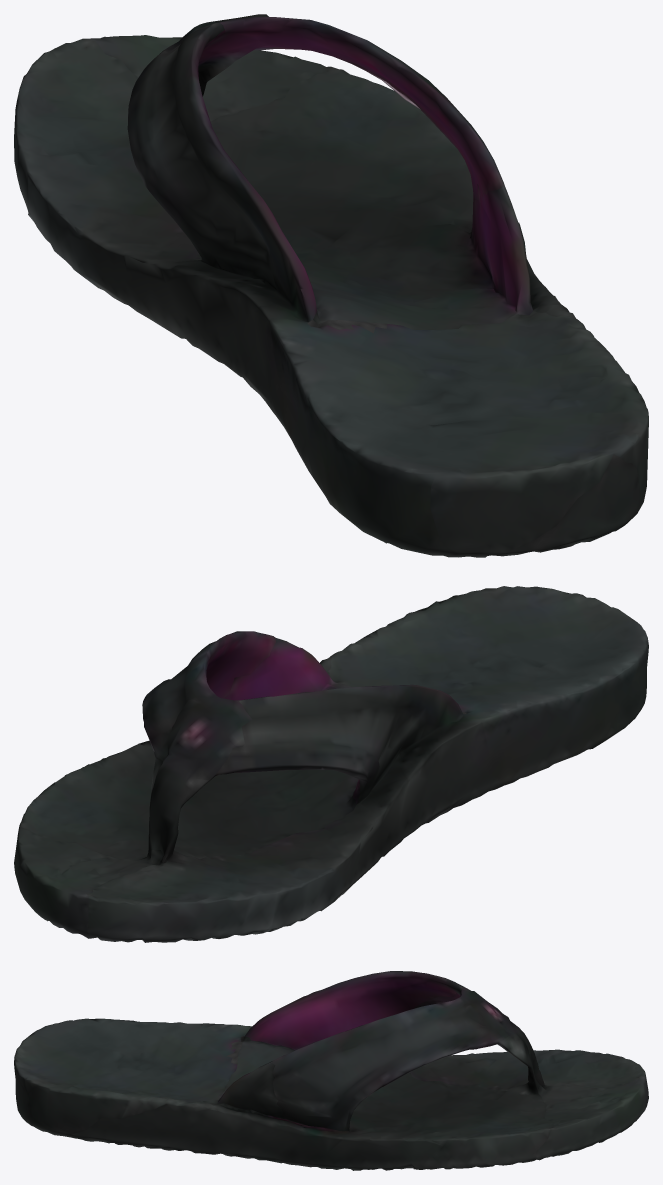
Rendered from REEF_ZENFUN-high.glb.
3 renders of one model, top to bottom at view 1: azimuth 30°, elevation 25°; view 2: azimuth 150°, elevation 25°; view 3: azimuth 270°, elevation 25°, orthographic. The views are drawn at different scales.
Parts seen in each view (by area): view 1: REEF_ZENFUN; view 2: REEF_ZENFUN; view 3: REEF_ZENFUN.
Boxes of the visible parts, <box> form: REEF_ZENFUN: <box>14,14,648,557</box>; REEF_ZENFUN: <box>14,586,648,942</box>; REEF_ZENFUN: <box>14,971,648,1170</box>.
Size of the model in its own units: 0.1073 by 0.06 by 0.25.
1 material, 1 textured.
